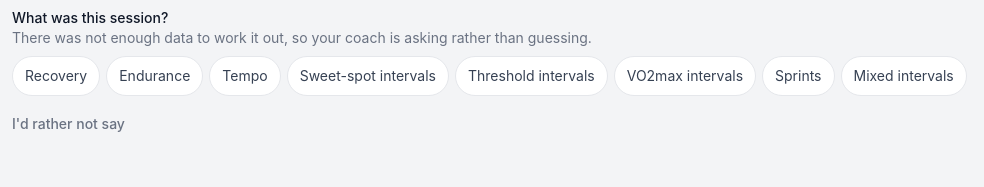
Test: SessionPurposeQuestion › keeps the question open when saving fails
The image size is (984, 187).
What coordinates should you click on to do the following:
click the button "Recovery"
I would click on:
 (56, 76)
Its box is [12,56,100,96].
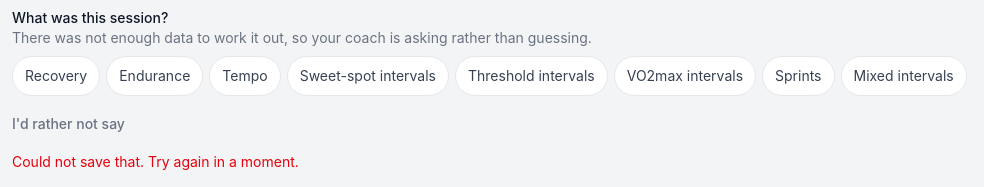
Result: the text "Could not save that. Try again in a moment." is shown at [12,153,299,170]
